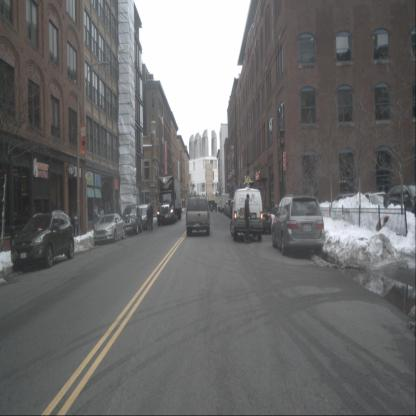human-pedestrian-adult: (243, 193, 252, 244), (146, 206, 151, 232), (99, 208, 105, 229), (149, 204, 153, 231)
vehicle-car: (11, 211, 74, 272), (272, 194, 325, 257), (230, 188, 263, 242), (384, 182, 416, 222), (94, 213, 125, 246), (186, 196, 210, 236), (361, 191, 394, 218), (121, 204, 142, 236), (251, 204, 272, 235), (135, 204, 152, 232), (229, 200, 240, 218), (226, 199, 236, 217)
vehicle-truck: (157, 176, 175, 226), (220, 194, 230, 213), (206, 200, 218, 212)
